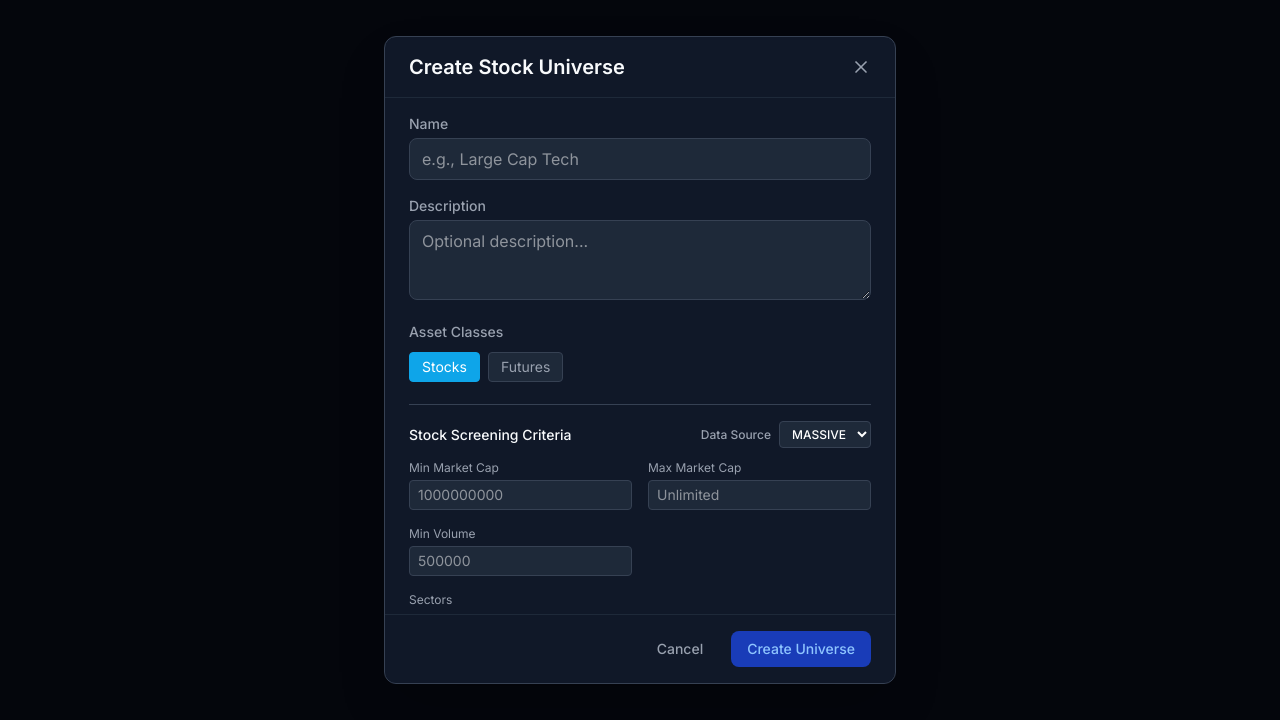
Test: UniverseFormModal › Create Universe button enables after typing a name
Type "My Universe" into the field with placeholder "e.g., Large Cap Tech" at (640, 159), box 409,138 -> 871,180
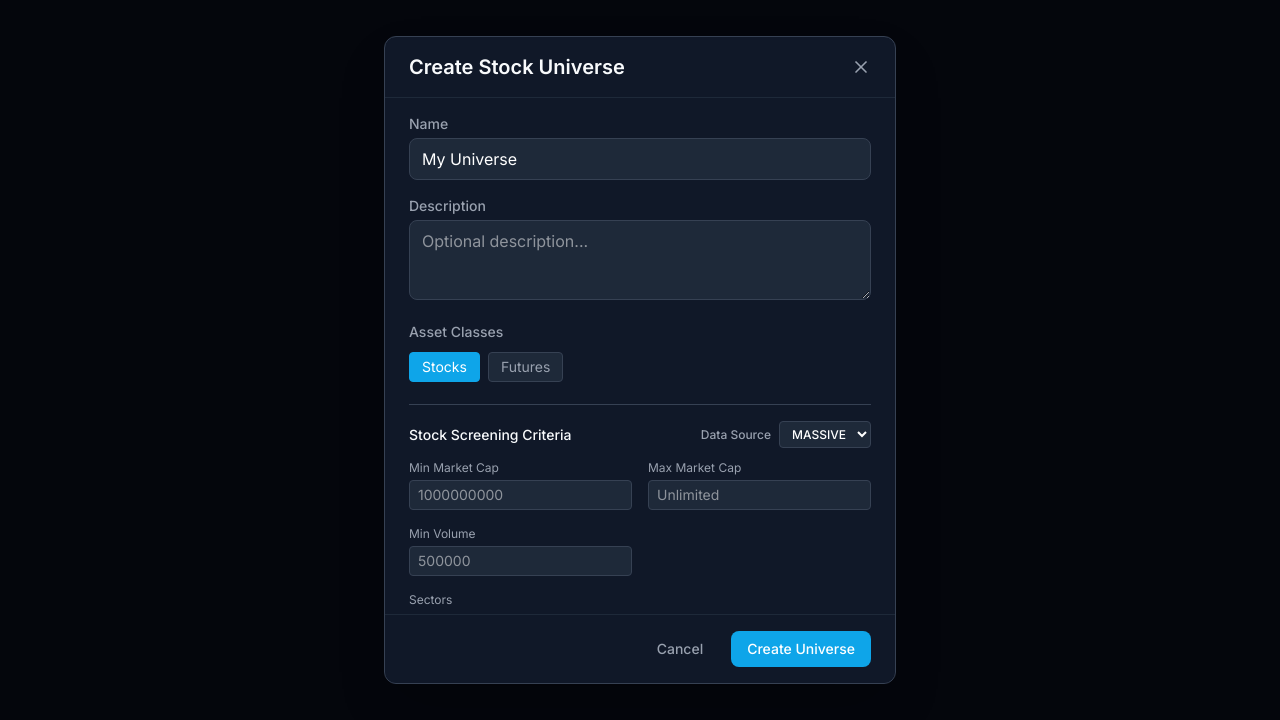
Expected: the button "Create Universe" is enabled, 731,631 -> 871,667
